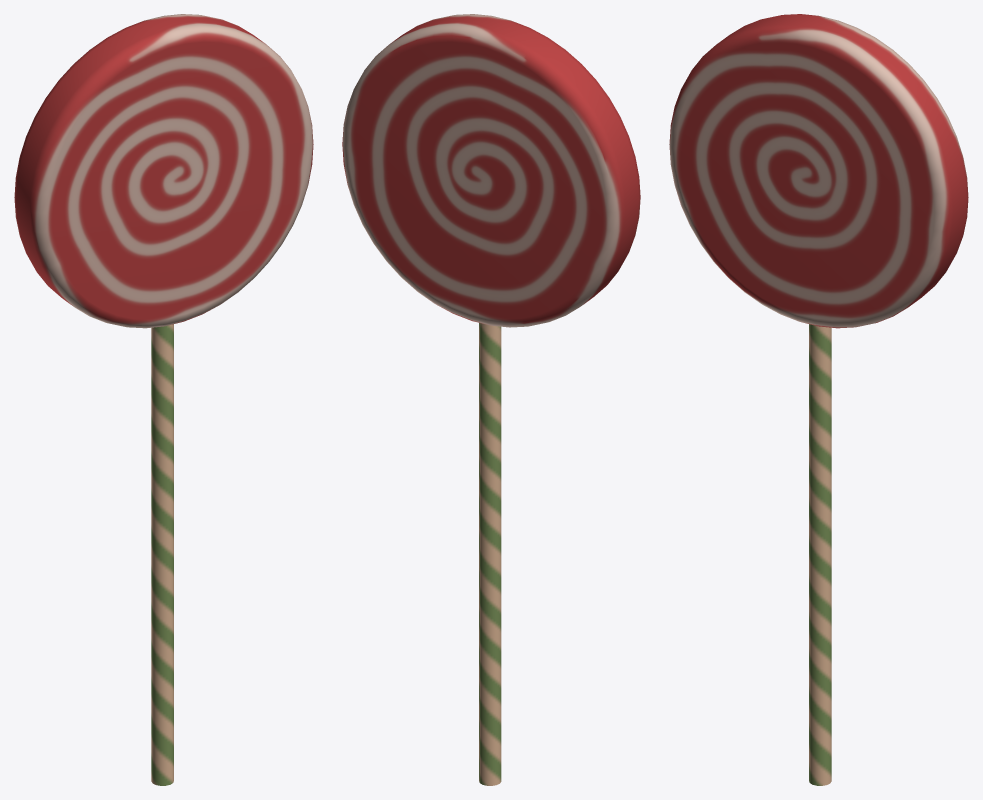
Rendered from candy.glb.
3 renders of one model, left to right at view 1: azimuth 30°, elevation 25°; view 2: azimuth 150°, elevation 25°; view 3: azimuth 330°, elevation 25°, orthographic.
Parts seen in each view (by area): view 1: Object_2; view 2: Object_2; view 3: Object_2.
Boxes of the visible parts, x1,y1,x2,y2 form: Object_2: (14,14,313,785); Object_2: (342,14,640,785); Object_2: (669,14,968,785).
Size of the model in its own units: 10.98 by 28.22 by 1.82.
Materials: 1 (1 with a texture image).
